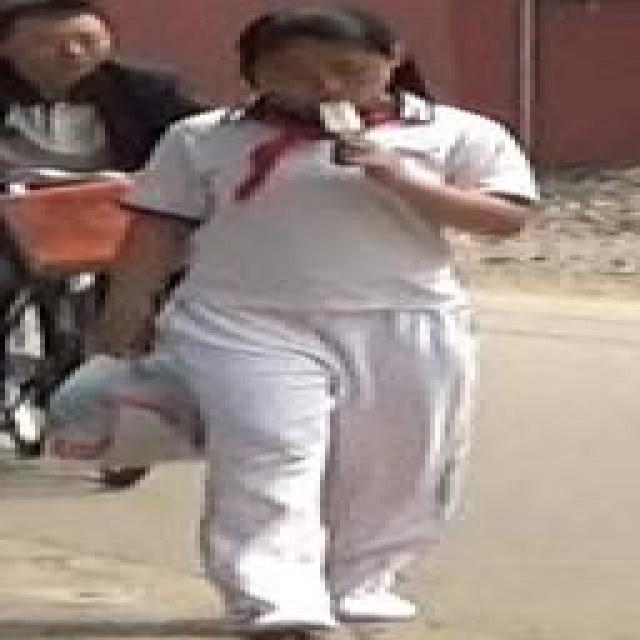adult: (1, 1, 219, 381)
child: (149, 11, 502, 635)
